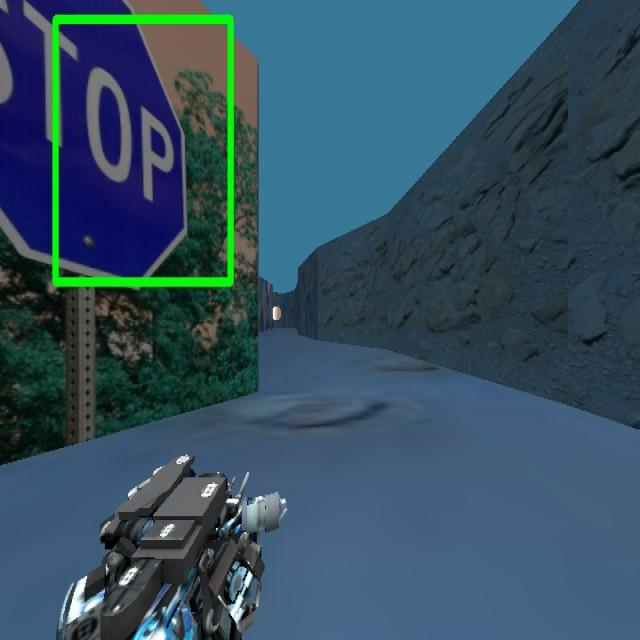Circle: (257, 280, 306, 342)
Stop_Sign: (0, 0, 234, 289)
